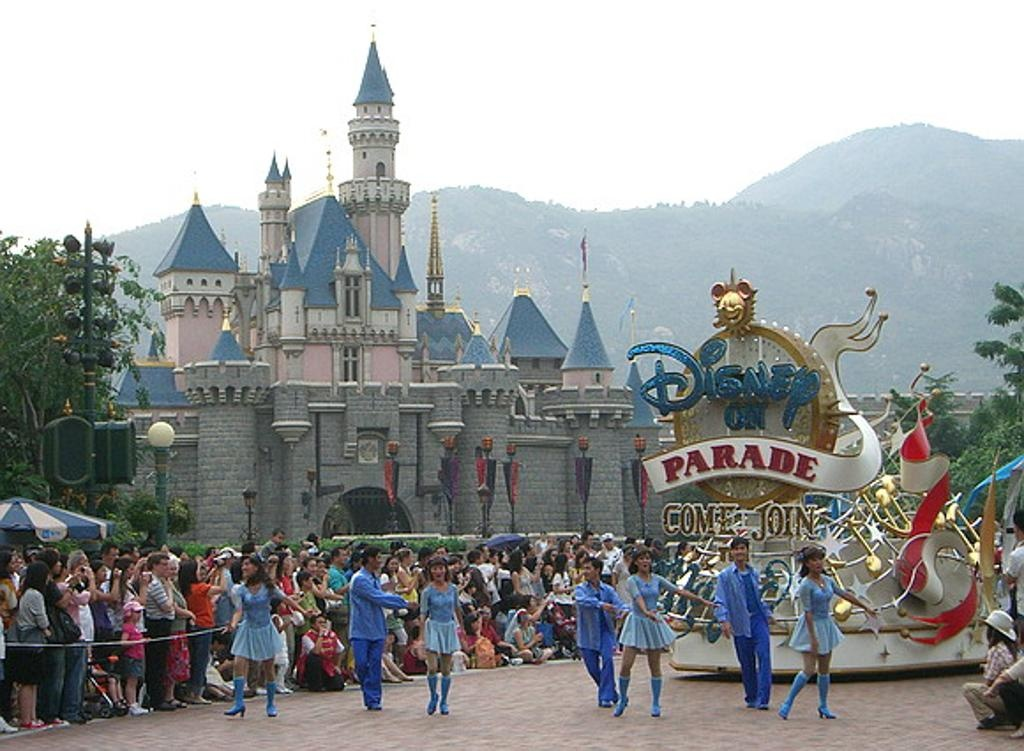human_face: (806, 552, 822, 572), (636, 550, 650, 570), (76, 552, 88, 574), (156, 556, 168, 576), (240, 560, 254, 576), (430, 564, 444, 580), (732, 542, 746, 558), (106, 548, 118, 566), (582, 563, 594, 579), (314, 560, 326, 576), (128, 546, 140, 562), (315, 616, 327, 632), (52, 555, 62, 573), (5, 554, 15, 572), (623, 551, 635, 565), (124, 562, 134, 578), (371, 551, 381, 567), (10, 550, 18, 568), (96, 566, 106, 580), (166, 562, 176, 576), (336, 549, 346, 563), (480, 606, 490, 620), (527, 598, 537, 612), (306, 560, 316, 573), (551, 550, 561, 562), (542, 566, 552, 578), (281, 554, 289, 568), (482, 545, 490, 558), (603, 538, 613, 548), (266, 558, 276, 568), (304, 575, 312, 587), (406, 550, 414, 562), (274, 533, 282, 543), (388, 560, 396, 570), (436, 548, 444, 558), (562, 542, 570, 550), (586, 534, 592, 544), (477, 552, 483, 562), (209, 546, 215, 554), (541, 532, 547, 540)
